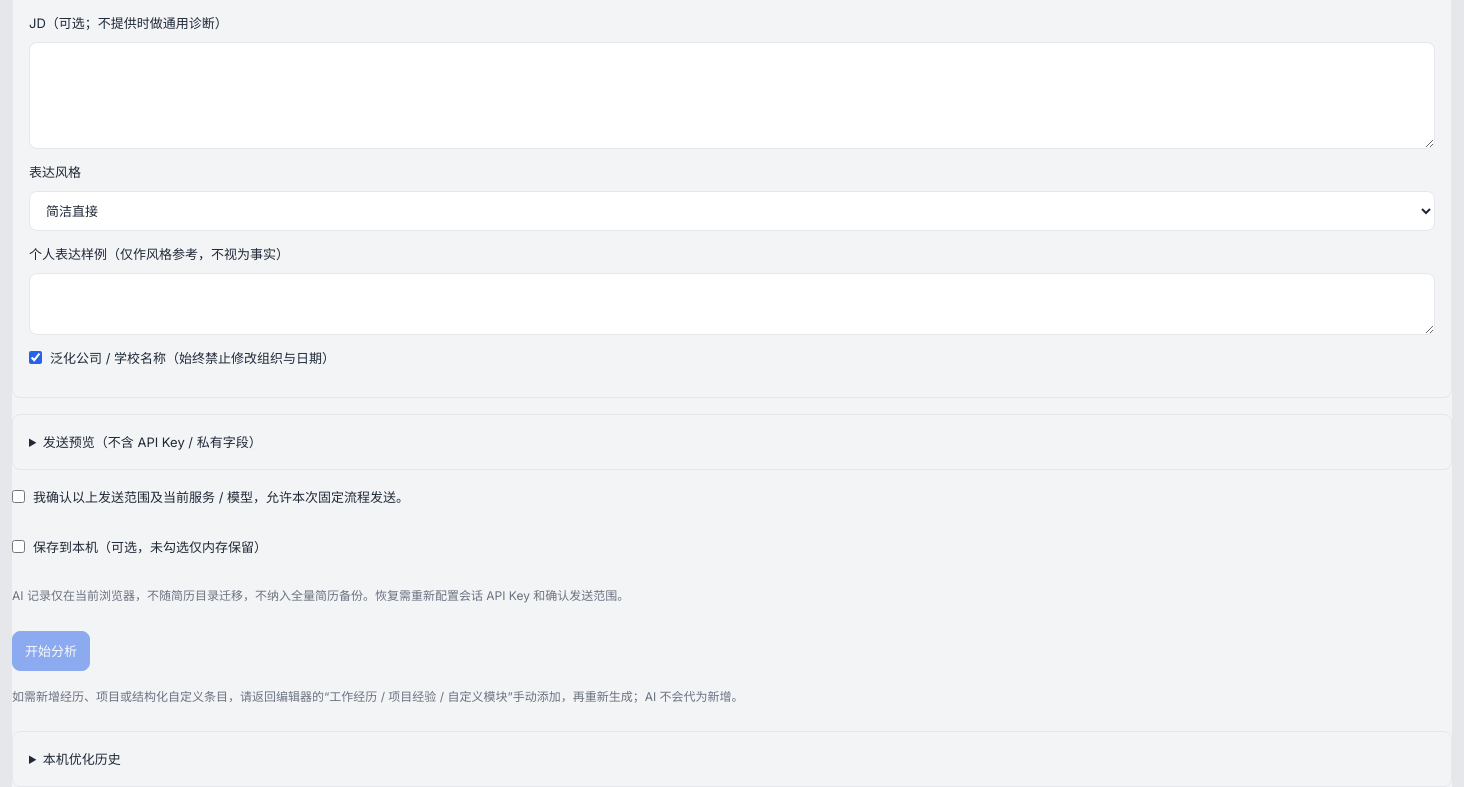
Test case: ResumeOptimizationPanel › allows users to reject a selected pass suggestion without applying it
(page scrolled)
Click the checkbox with test id "consent".
click(18, 497)  # box x1=12 y1=490 x2=25 y2=503
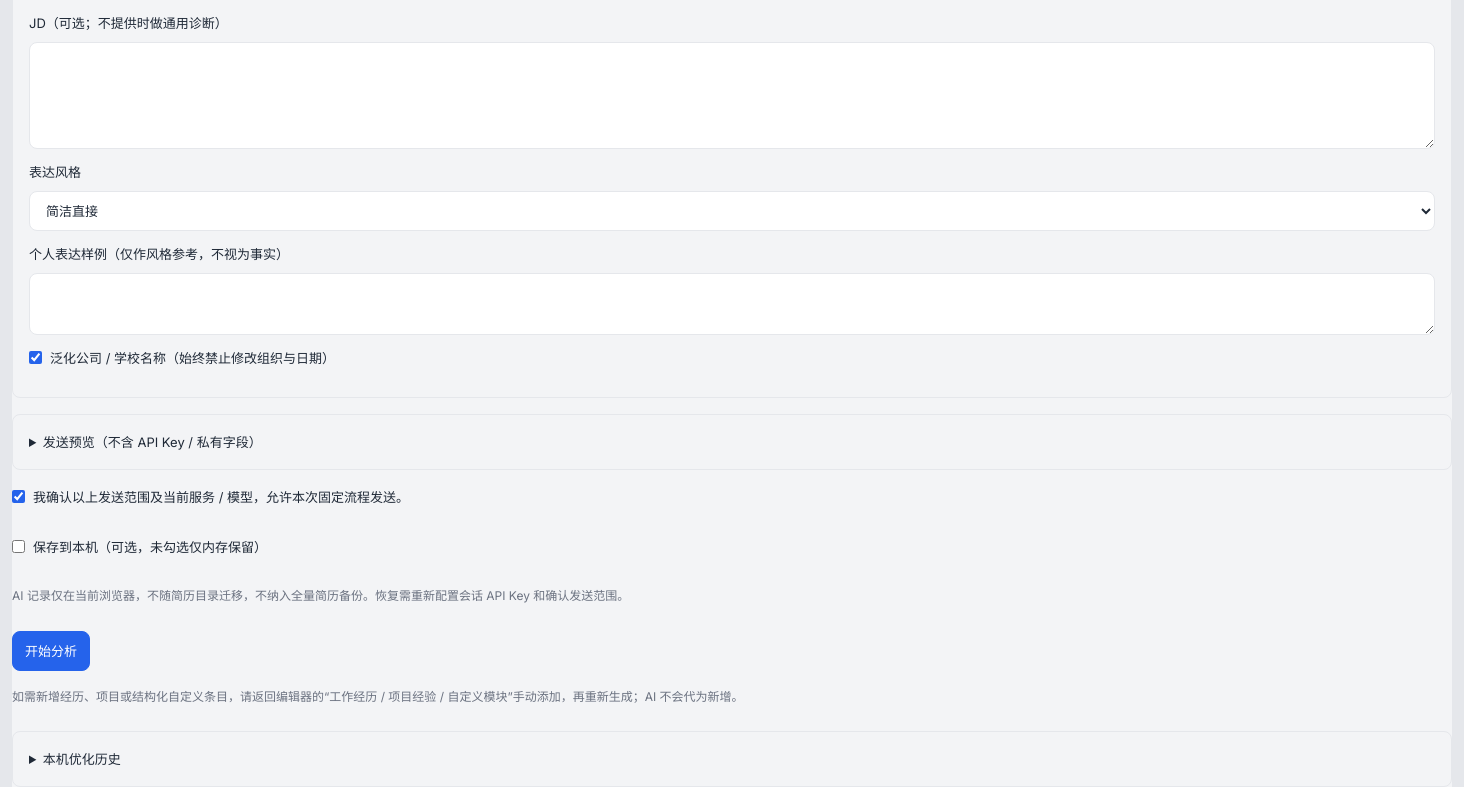
Click the button with test id "start".
click(51, 651)  # box x1=12 y1=631 x2=90 y2=671
(page scrolled)
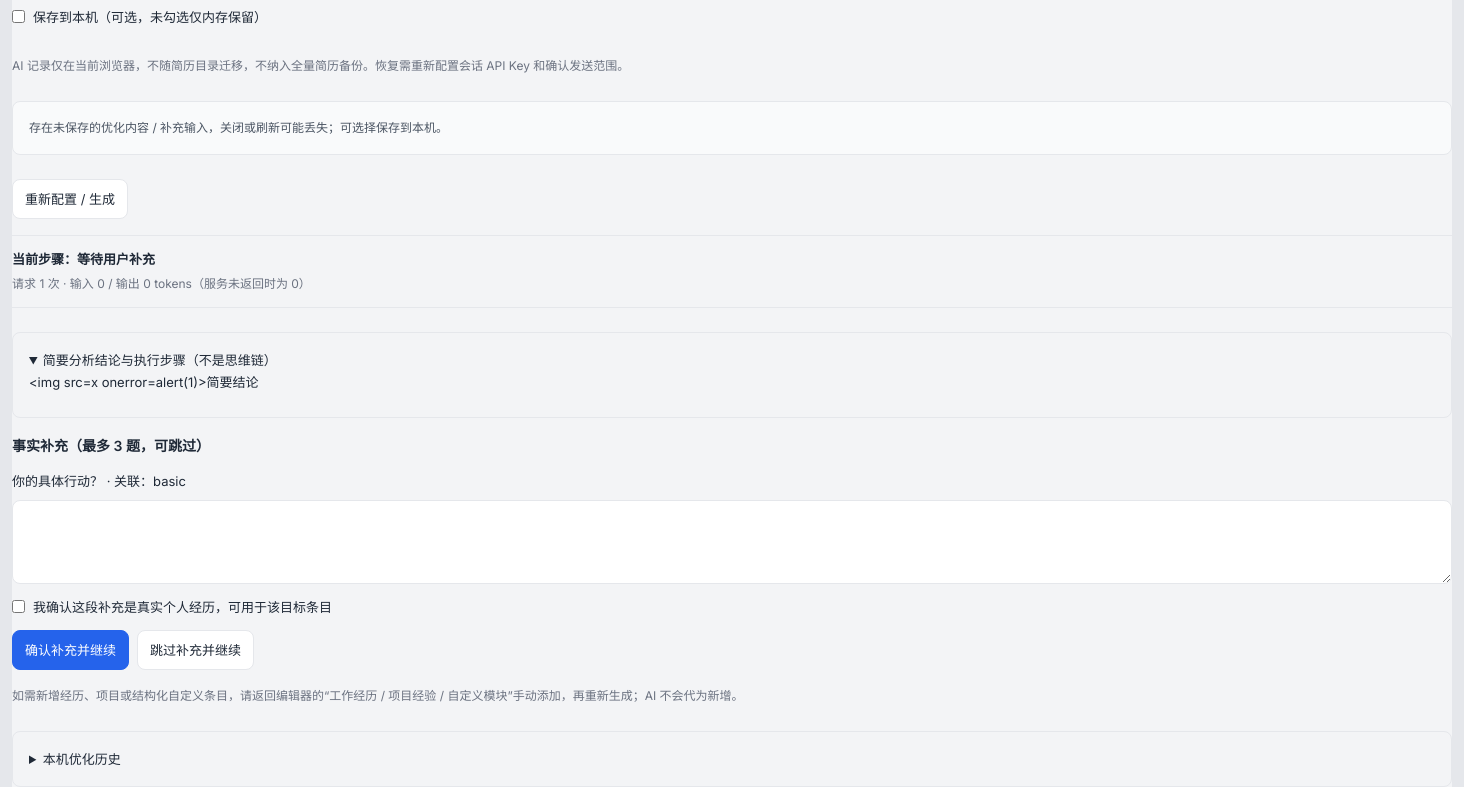
Click the button with test id "skip".
click(196, 650)  # box x1=137 y1=630 x2=254 y2=670
(page scrolled)
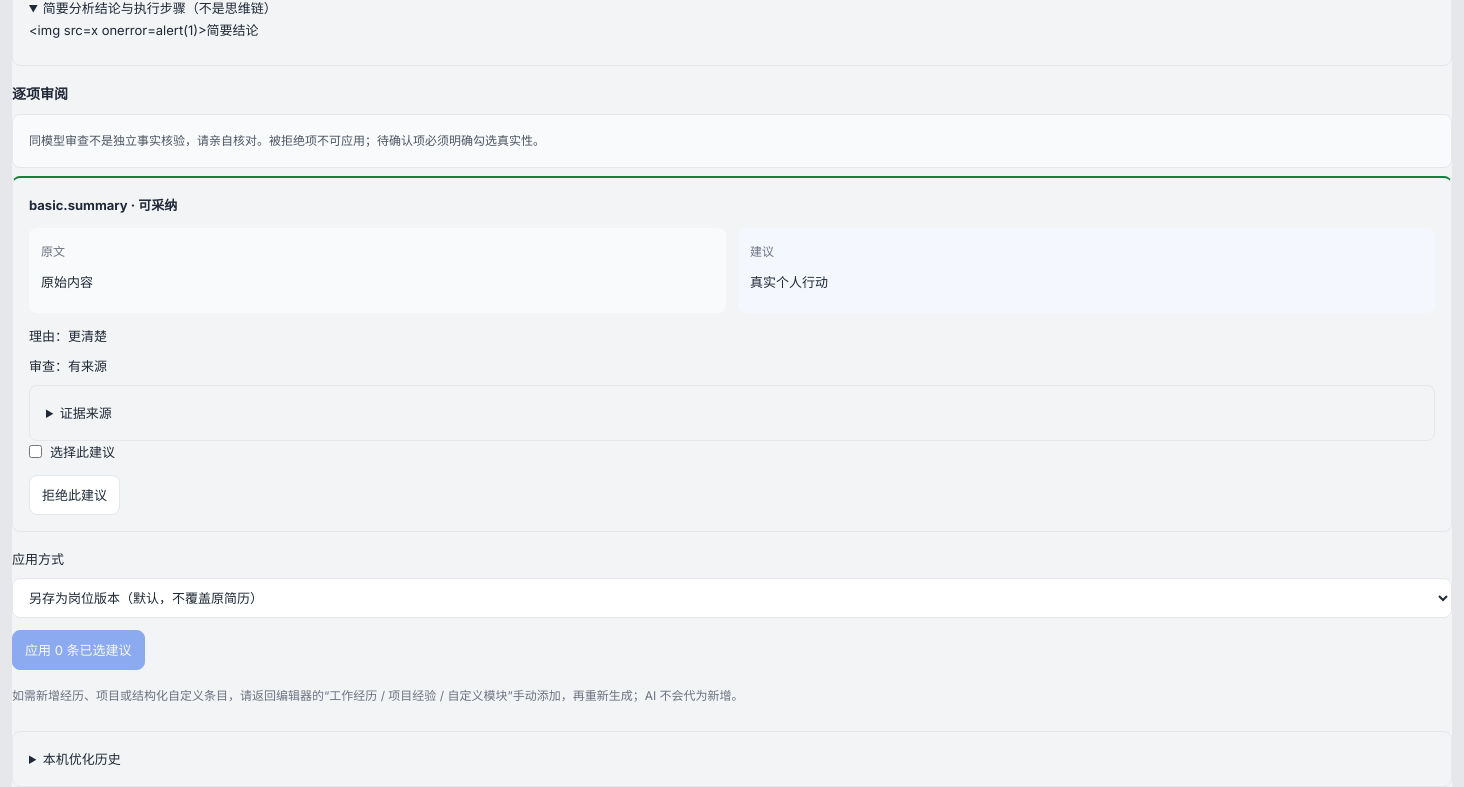
Click the checkbox labelled "选择此建议".
click(36, 452)  # box x1=29 y1=445 x2=42 y2=458
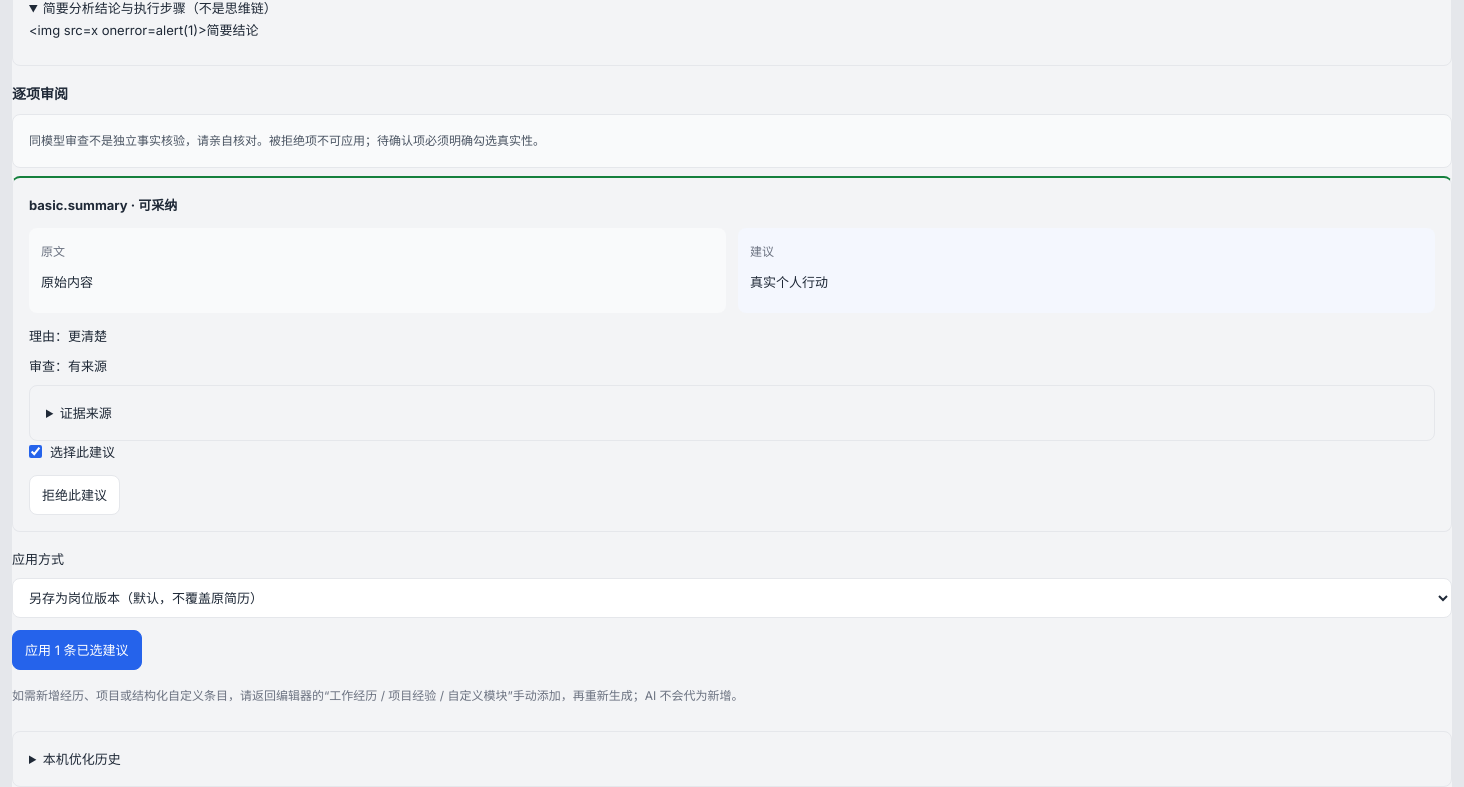
Click the button "拒绝此建议".
click(74, 495)  # box x1=29 y1=475 x2=120 y2=515
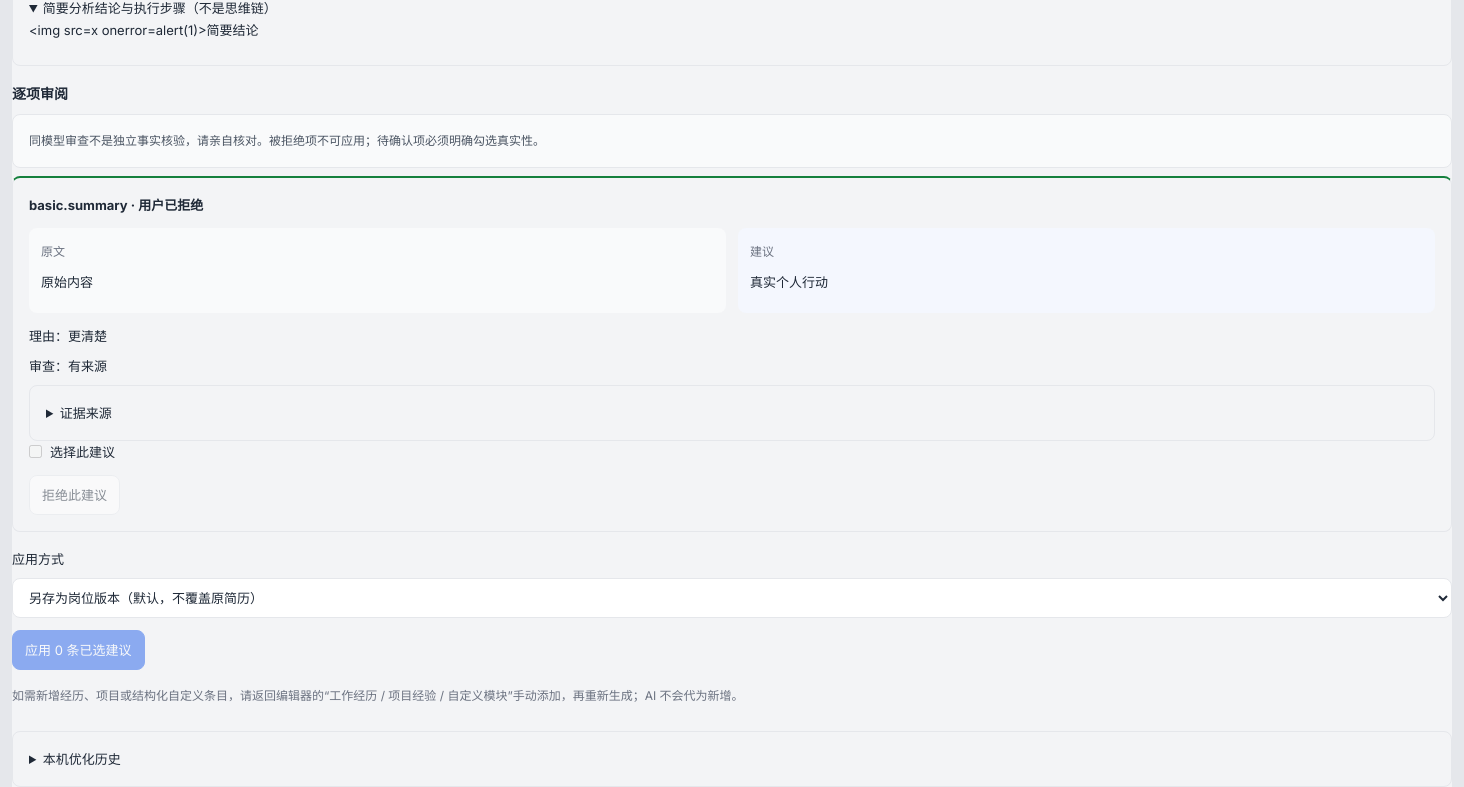
Now the button with test id "apply" is disabled, box x1=12 y1=630 x2=144 y2=670
